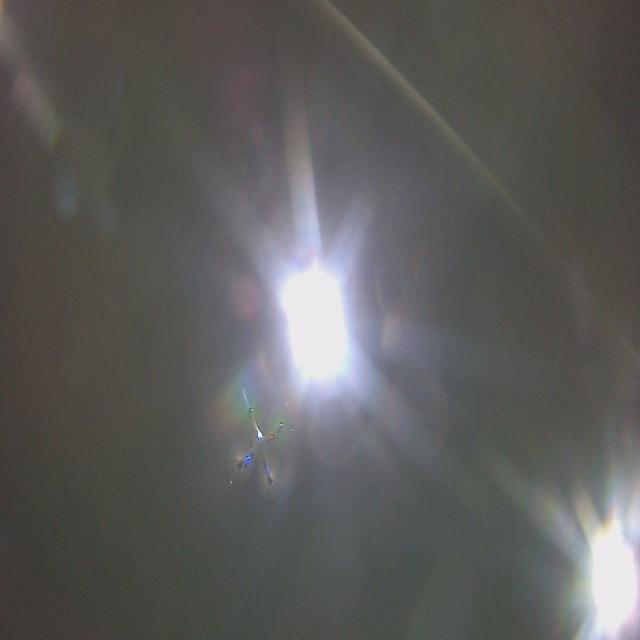drone: (221, 376, 303, 505)
